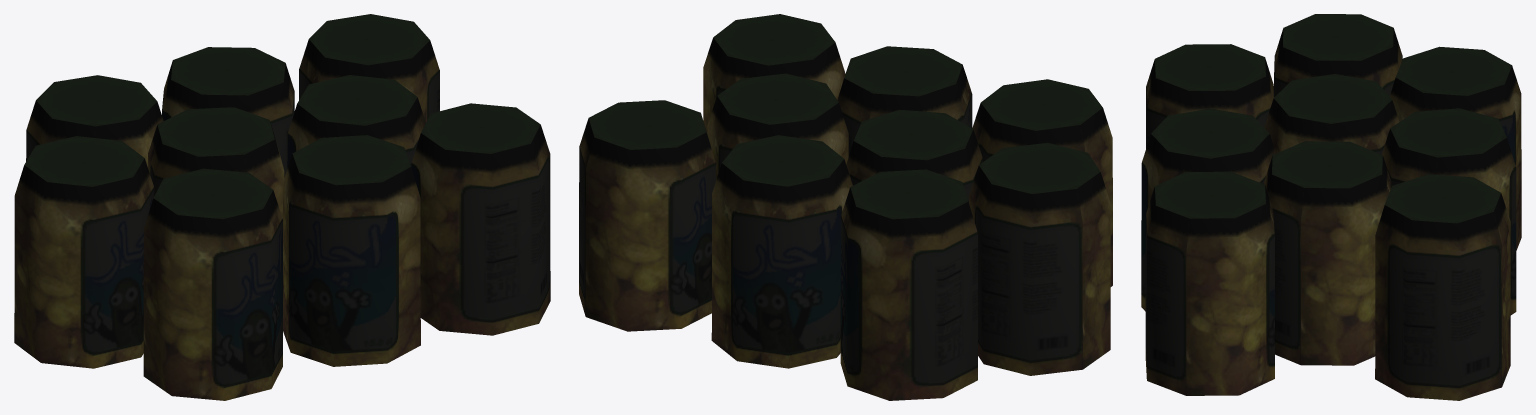
The model's file is p6_pak_food_jar_stack_04_lod1.glb.
3 renders of one model, left to right at view 1: azimuth 30°, elevation 25°; view 2: azimuth 150°, elevation 25°; view 3: azimuth 270°, elevation 25°, orthographic. The views are drawn at different scales.
Parts seen in each view (by area): view 1: surf0; view 2: surf0; view 3: surf0.
Boxes of the visible parts, x1,y1,x2,y2 form: surf0: (14, 14, 550, 400); surf0: (579, 14, 1112, 400); surf0: (1141, 14, 1521, 400).
Bounding box in the file's own units: 21.78 × 8.11 × 16.1.
